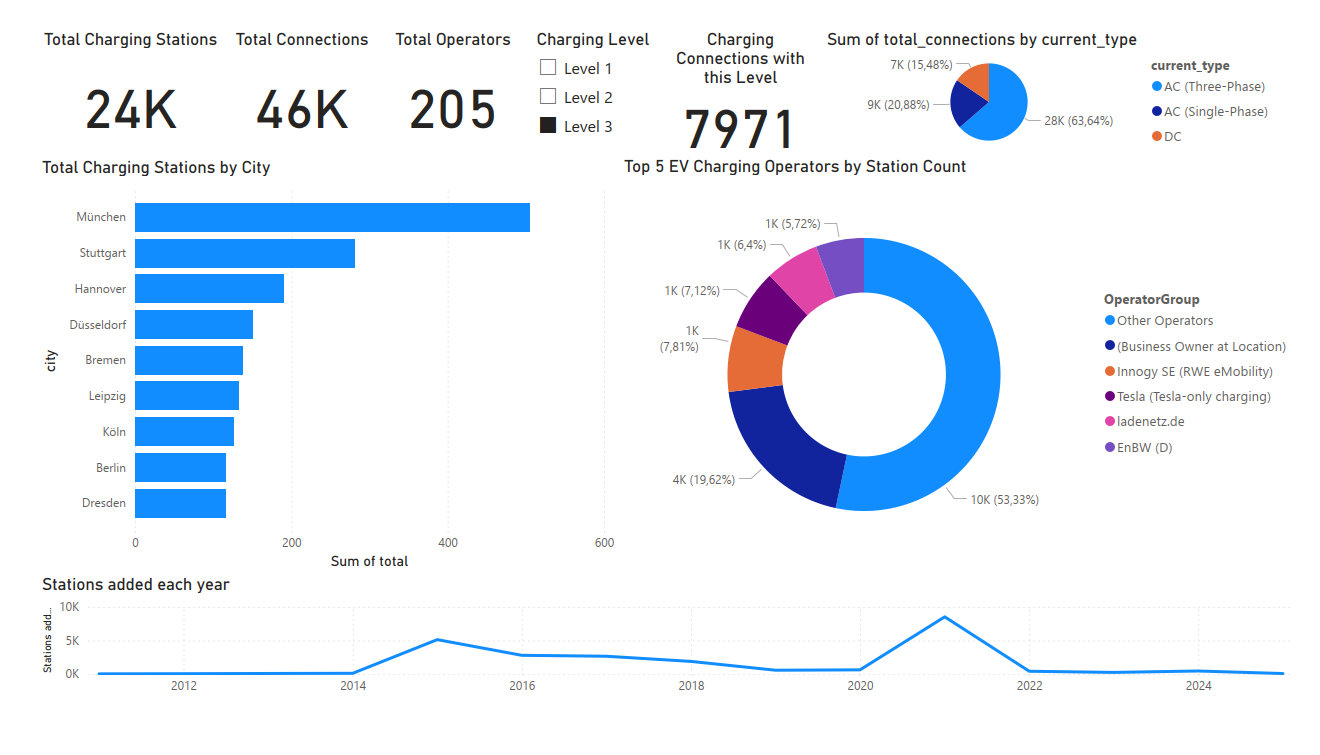

Layout of this report page (visuals, bound fields, positions):
{"tool":"powerbi","page":{"name":"Page 1","canvas":[1280,720],"ordinal":0},"visuals":[{"type":"slicer","title":"Charging Level","fields":{"Values":["Query7.level_label"]},"box":[506,8.5,132.5,127.8],"z":0,"group":"g1"},{"type":"pieChart","fields":{"Category":["Query4.current_type"],"Y":["Sum(Query4.total_connections)"]},"box":[801.2,8.5,461,127.8],"z":0},{"type":"card","title":"Charging Connections with this Level","fields":{"Values":["Query7.SelectedLevelConnections"]},"box":[638.5,8.5,162.7,127.8],"z":1000,"group":"g1"},{"type":"card","title":"Total Connections","fields":{"Values":["Sum(Query1.total_connections)"]},"box":[203.8,8.5,154.2,127.8],"z":1000},{"type":"card","title":"Total Operators","fields":{"Values":["Sum(Query1.total_operators)"]},"box":[358,8.5,148,127.8],"z":2000},{"type":"card","title":"Total Charging Stations","fields":{"Values":["Sum(Query1.total_stations)"]},"box":[15.5,8.5,188.3,127.8],"z":3000},{"type":"group","id":"g1","title":"Group 1","box":[506,8.5,295.2,127.8],"z":4000},{"type":"clusteredBarChart","title":"Total Charging Stations by City","fields":{"Category":["Query2.city"],"Y":["Sum(Query2.total)"]},"box":[15.7,136.8,581.8,416.7],"z":5000},{"type":"lineChart","title":"Stations added each year","fields":{"Y":["Sum(Query8.stations_added)"],"Category":["Query8.year.Variation.Date Hierarchy.Year"]},"box":[15.7,553.5,1264.3,130.5],"z":5001},{"type":"donutChart","title":"Top 5 EV Charging Operators by Station Count","fields":{"Category":["Query9.OperatorGroup","Query9.title"],"Y":["Sum(Query9.total_stations)"]},"box":[597.5,136,682.5,417.5],"z":5002}]}

Visuals, with their boxes in screenshot pixels (x1, y1, x2, y2), scaled from the page's 1280x720 canvas onto the 1320x755 screenshot:
"Charging Level" slicer: 522,9,658,143
pieChart - Query4.current_type x Sum(Query4.total_connections): 826,9,1302,143
"Charging Connections with this Level" card: 658,9,826,143
"Total Connections" card: 210,9,369,143
"Total Operators" card: 369,9,522,143
"Total Charging Stations" card: 16,9,210,143
"Group 1" group: 522,9,826,143
"Total Charging Stations by City" clusteredBarChart: 16,143,616,580
"Stations added each year" lineChart: 16,580,1319,717
"Top 5 EV Charging Operators by Station Count" donutChart: 616,143,1319,580
